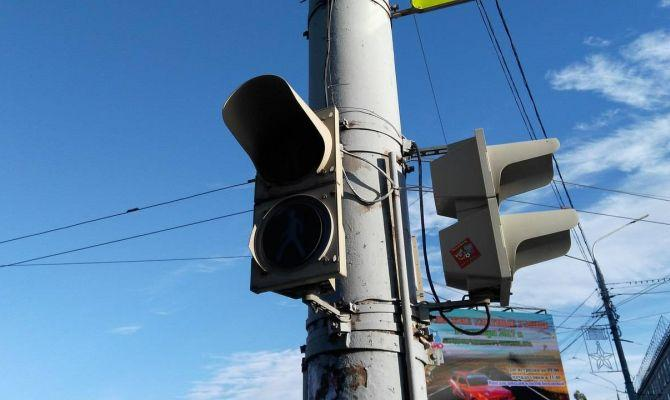off traffic light: (224, 75, 345, 296), (431, 130, 578, 304)
